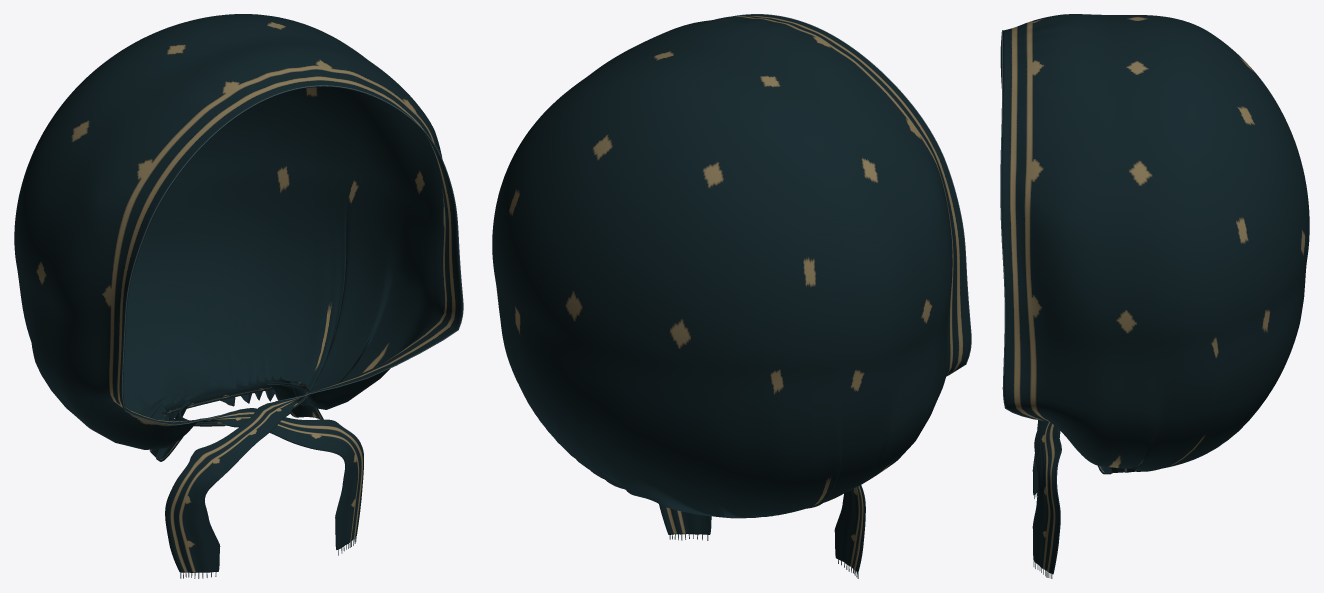
File: Masculine-flow-tshirt-pashmina250-headgear.glb
3 views of the same model, side by side, from view 1: azimuth 30°, elevation 25°; view 2: azimuth 150°, elevation 25°; view 3: azimuth 270°, elevation 25° (orthographic). The views are drawn at different scales.
Parts seen in each view (by area): view 1: 226 headgear / Headwear / continuous woven pashmina239, 226 headgear / Headwear / face edge239; view 2: 226 headgear / Headwear / continuous woven pashmina239, 226 headgear / Headwear / face edge239; view 3: 226 headgear / Headwear / continuous woven pashmina239, 226 headgear / Headwear / face edge239.
Boxes of the visible parts, box(x1,y1,x2,y2) form: 226 headgear / Headwear / continuous woven pashmina239: box(14, 14, 462, 572); 226 headgear / Headwear / face edge239: box(121, 85, 463, 425); 226 headgear / Headwear / continuous woven pashmina239: box(492, 14, 970, 572); 226 headgear / Headwear / face edge239: box(731, 14, 971, 376); 226 headgear / Headwear / continuous woven pashmina239: box(1001, 14, 1309, 574); 226 headgear / Headwear / face edge239: box(1000, 30, 1038, 419).
Size of the model in its own units: 1.1 by 1.4 by 0.7763.
Materials: 3 (1 with a texture image).
